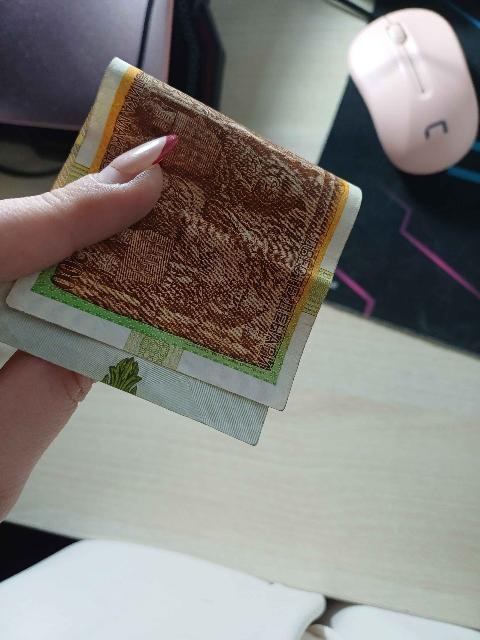note: (8, 59, 360, 409)
